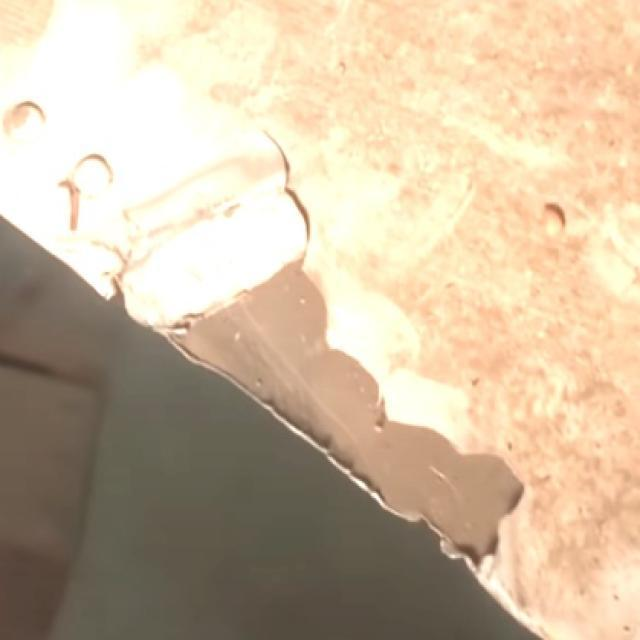crack: (258, 138, 298, 226)
